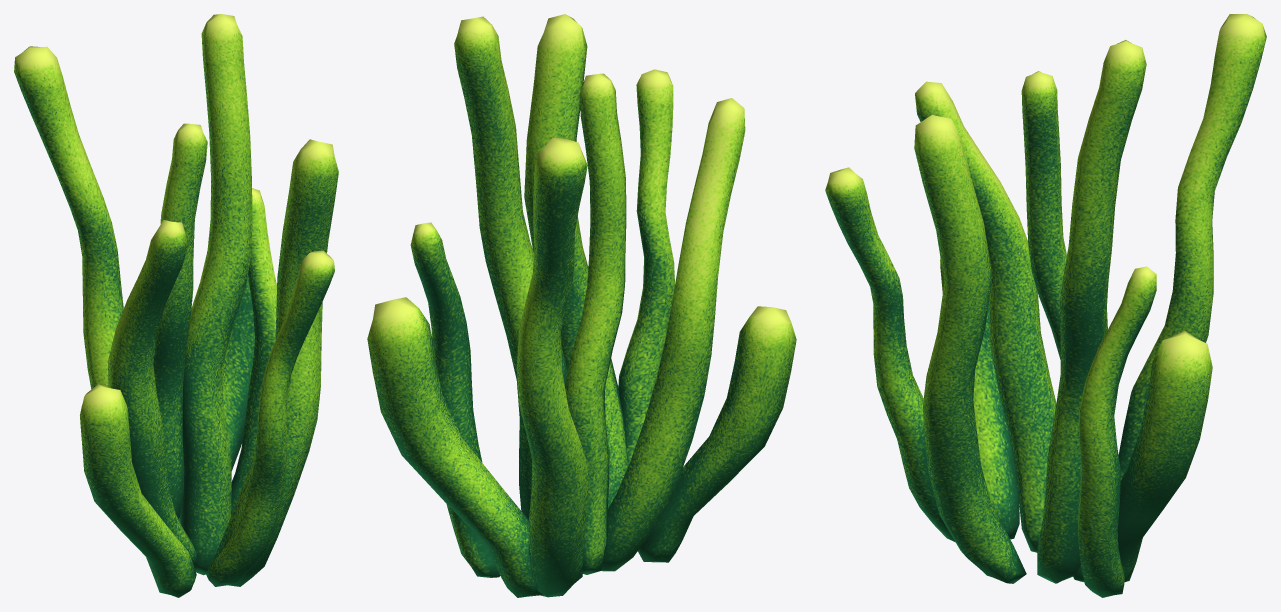
Rendered from shrub-noodle-1a.fbx.
3 views of the same model, side by side, from view 1: azimuth 30°, elevation 25°; view 2: azimuth 150°, elevation 25°; view 3: azimuth 270°, elevation 25° (orthographic). The views are drawn at different scales.
Parts seen in each view (by area): view 1: Cube.005; view 2: Cube.005; view 3: Cube.005.
Boxes of the visible parts, box(x1,y1,x2,y2) form: Cube.005: box(14, 14, 338, 597); Cube.005: box(367, 14, 796, 597); Cube.005: box(825, 14, 1266, 597).
Size of the model in its own units: 1317 by 2355 by 1656.
1 material, 1 textured.
